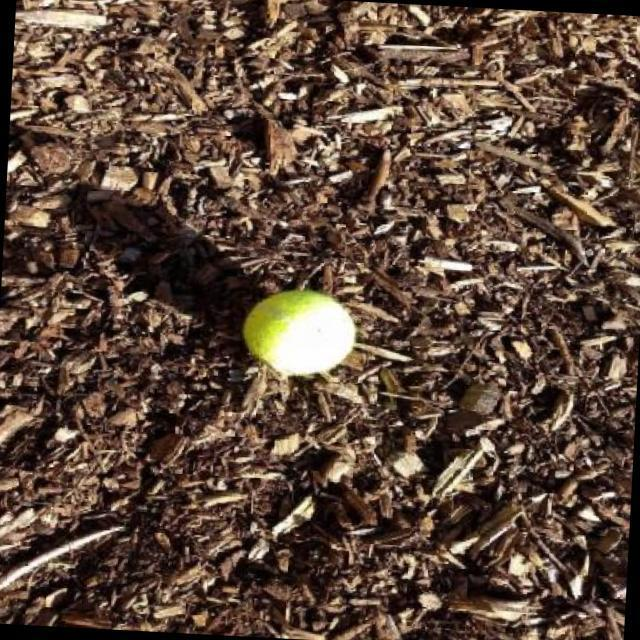-: (236, 289, 365, 380)
